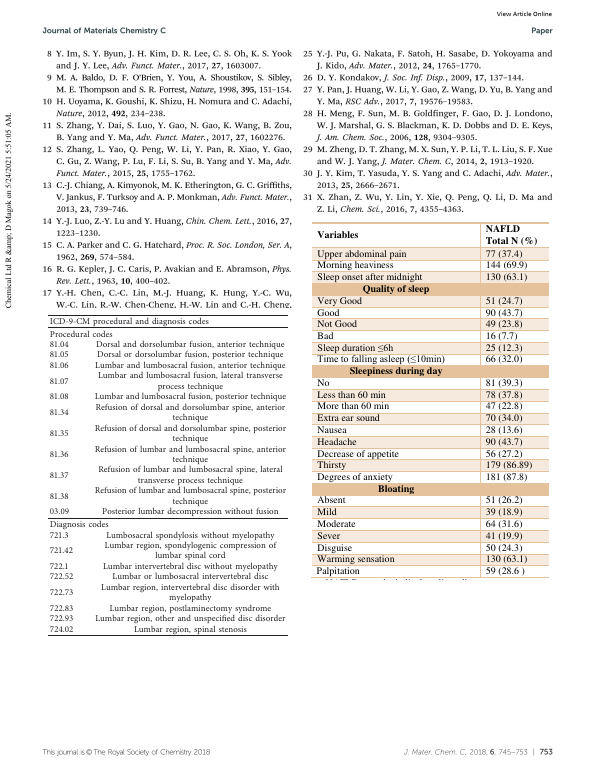borderless: (309, 221, 548, 579), (47, 313, 288, 635)
cell: (93, 486, 287, 508), (97, 371, 283, 393), (93, 424, 287, 445), (93, 445, 287, 466), (94, 403, 286, 424), (97, 466, 283, 487), (100, 583, 280, 604), (103, 541, 277, 562), (93, 392, 287, 403), (94, 361, 286, 372), (94, 614, 286, 625), (95, 340, 285, 351), (101, 507, 279, 518), (102, 562, 278, 573), (316, 352, 445, 367), (96, 351, 284, 361), (48, 317, 209, 328), (111, 572, 269, 583), (105, 531, 275, 541), (108, 604, 272, 614), (316, 271, 423, 284), (484, 223, 538, 248), (348, 365, 443, 378), (316, 248, 407, 261), (316, 341, 394, 356), (316, 447, 399, 461), (133, 625, 247, 635), (316, 553, 395, 566), (316, 259, 394, 272), (316, 471, 393, 484), (316, 400, 389, 413), (316, 389, 386, 402), (361, 283, 430, 296), (316, 412, 380, 425), (48, 520, 109, 531), (48, 330, 113, 340), (484, 459, 533, 472), (316, 295, 362, 308), (315, 565, 360, 578), (484, 259, 528, 272), (484, 271, 528, 284), (484, 471, 528, 484), (484, 553, 528, 566), (316, 229, 359, 242), (484, 306, 523, 320), (484, 447, 523, 461), (376, 482, 415, 496), (484, 541, 523, 555), (316, 318, 357, 331), (316, 436, 357, 449), (484, 565, 525, 578), (316, 518, 356, 531), (316, 541, 353, 555), (484, 248, 523, 261), (484, 295, 523, 308), (484, 318, 523, 331), (484, 342, 523, 355), (484, 353, 523, 366), (484, 377, 523, 390), (484, 389, 523, 402), (484, 400, 523, 413), (484, 412, 523, 425), (484, 424, 523, 437), (484, 436, 523, 449), (484, 494, 523, 507), (484, 506, 523, 519), (484, 518, 523, 531), (484, 530, 523, 543), (484, 330, 518, 343), (316, 424, 347, 437), (316, 459, 347, 472), (316, 494, 346, 507), (316, 306, 340, 320), (316, 530, 340, 543), (48, 546, 74, 557), (48, 572, 74, 583), (48, 588, 74, 599), (48, 614, 74, 625), (316, 506, 337, 519), (48, 604, 74, 614), (48, 625, 74, 635), (48, 507, 70, 518), (316, 330, 334, 343), (48, 340, 69, 351), (48, 361, 69, 372), (48, 392, 69, 403), (48, 408, 69, 419), (48, 429, 69, 440), (48, 450, 69, 461), (48, 562, 69, 573), (48, 351, 69, 361), (48, 377, 69, 387), (48, 471, 69, 481), (48, 492, 69, 502), (48, 531, 69, 541), (316, 377, 330, 390)
